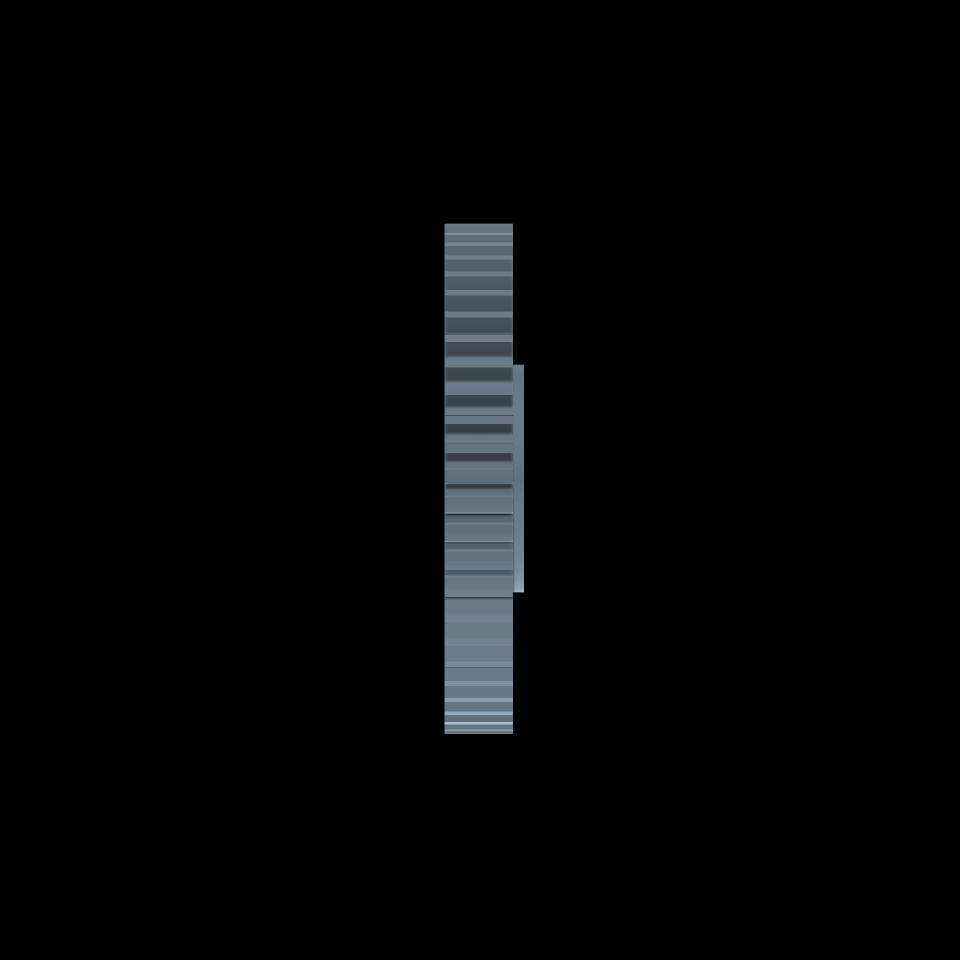Straight: (444, 224, 512, 733)
